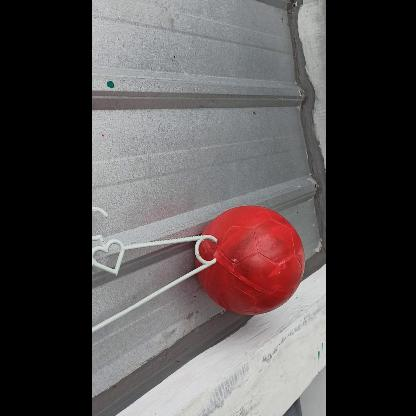red_ball: (195, 204, 304, 312)
